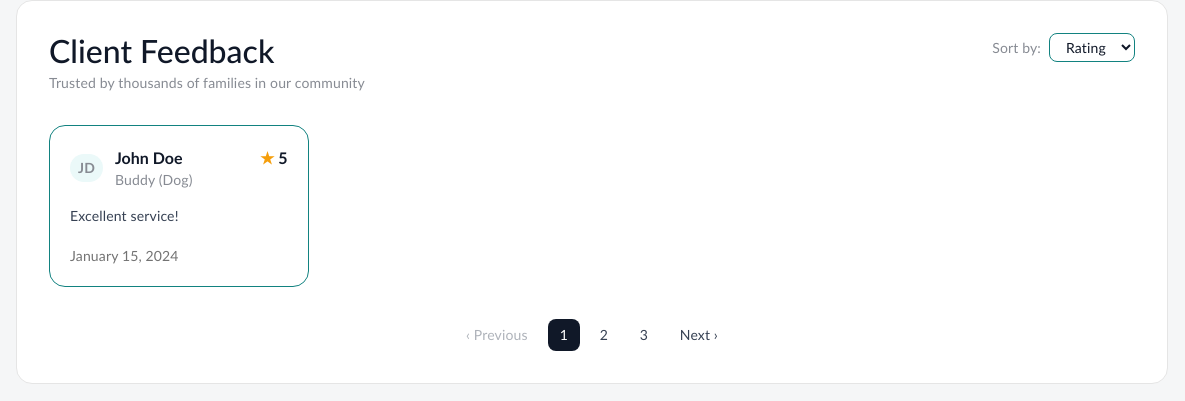
it: ClientFeedback › disables "Previous" button after navigating back to the first page
Click the button "Next ›". click: (699, 335)
box: [668,321,730,349]
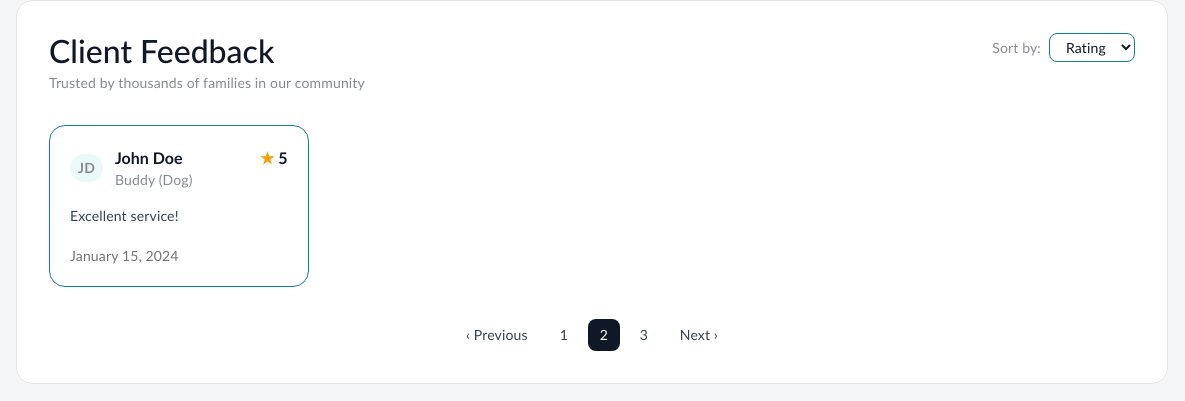
Click the button "‹ Previous". click: (497, 335)
box: [454,321,540,349]
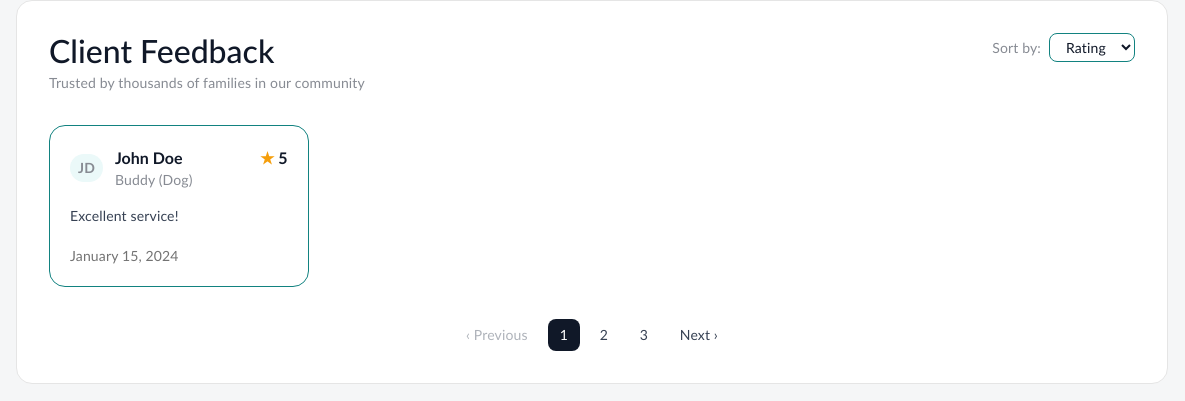
Check: the button "‹ Previous" is disabled, box [454,321,540,349]
